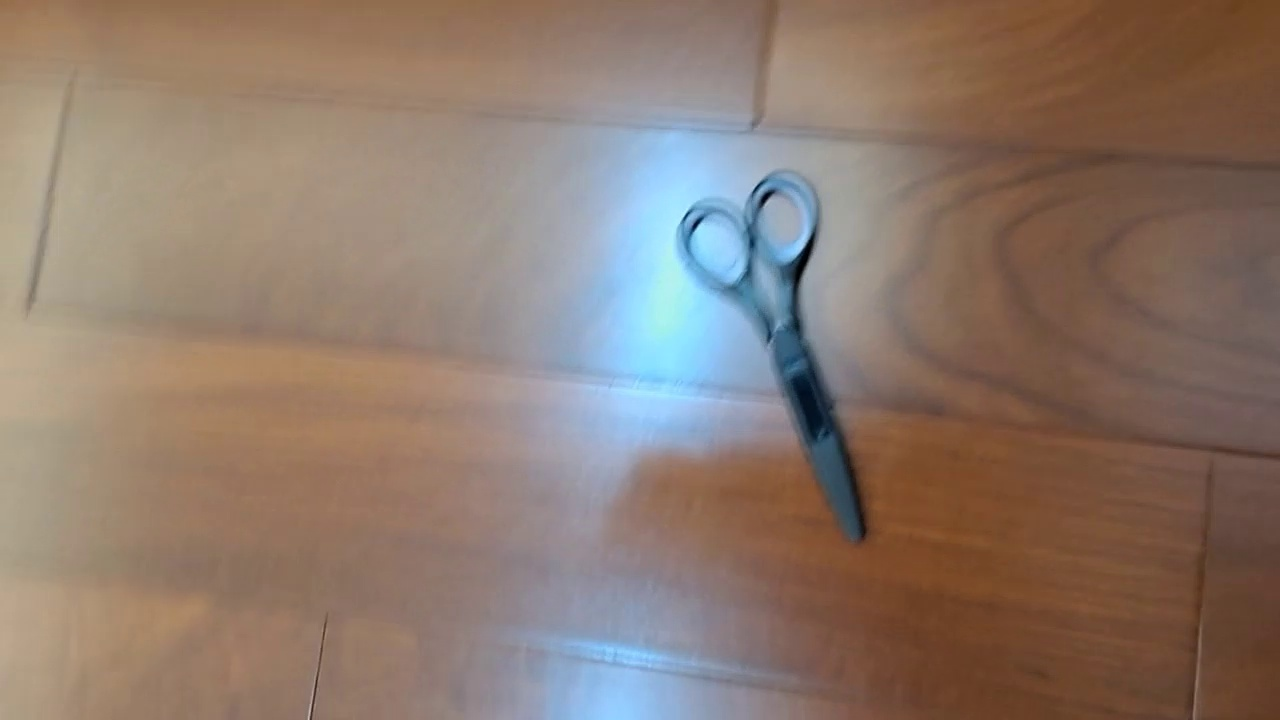scissors: (675, 168, 871, 546)
